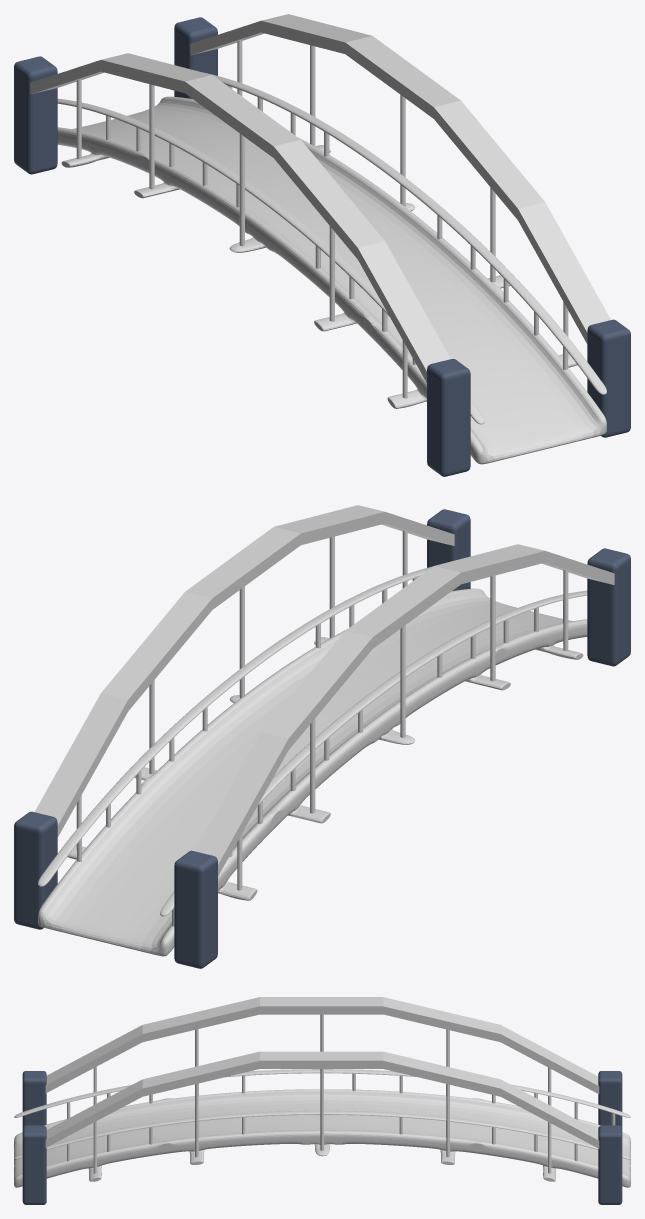
File: Bridge.fbx
3 renders of one model, top to bottom at view 1: azimuth 30°, elevation 25°; view 2: azimuth 150°, elevation 25°; view 3: azimuth 270°, elevation 25°, orthographic. The views are drawn at different scales.
Parts seen in each view (by area): view 1: Bridge; view 2: Bridge; view 3: Bridge.
Boxes of the visible parts, left/top/right/bottom form: Bridge: left=14, top=14, right=630, bottom=476; Bridge: left=14, top=505, right=630, bottom=968; Bridge: left=14, top=997, right=630, bottom=1204.
Size of the model in its own units: 94.57 by 98.85 by 381.
